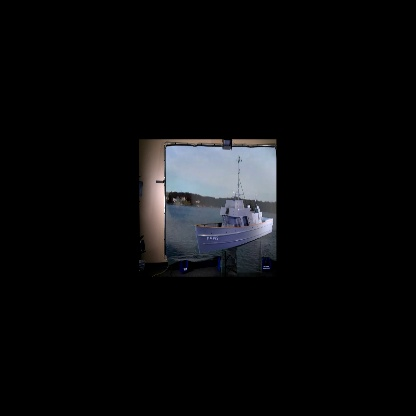YP689: (194, 156, 274, 255)
